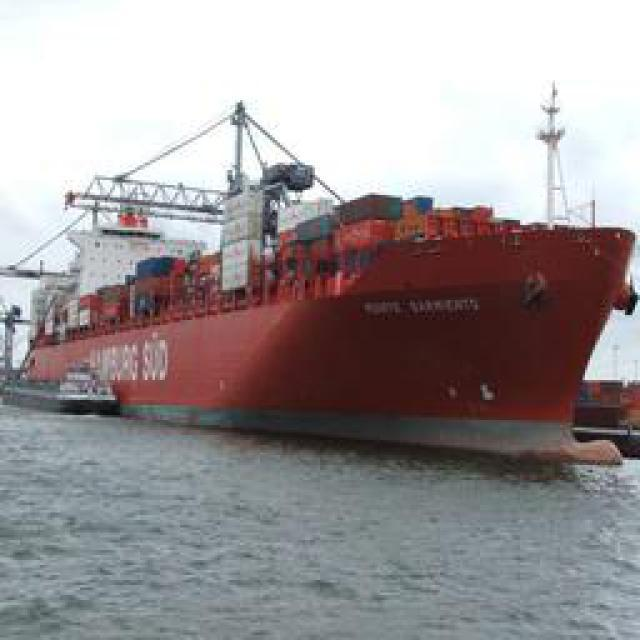Ship: (19, 109, 634, 454)
